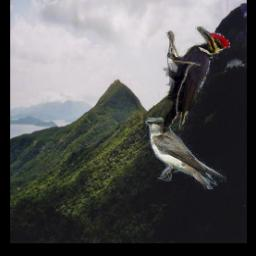Swallow: (145, 119, 226, 190)
Woodpecker: (160, 27, 230, 134)
